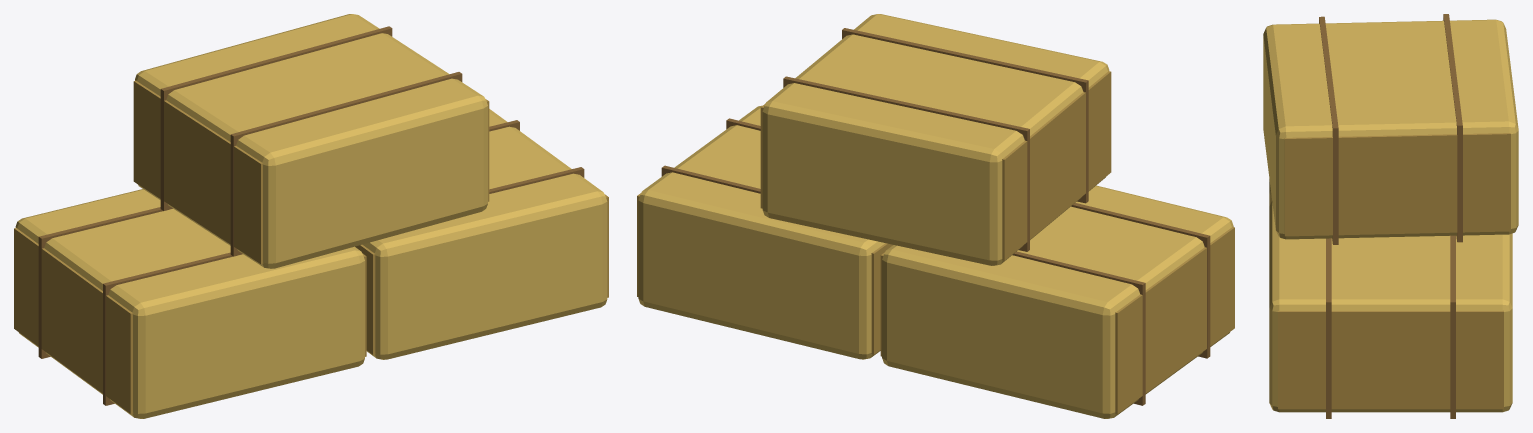
File: hayStack.glb
3 views of the same model, side by side, from view 1: azimuth 30°, elevation 25°; view 2: azimuth 150°, elevation 25°; view 3: azimuth 270°, elevation 25° (orthographic). The views are drawn at different scales.
Parts seen in each view (by area): view 1: hayStack; view 2: hayStack; view 3: hayStack.
Boxes of the visible parts, x1,y1,x2,y2 form: hayStack: [14, 14, 608, 418]; hayStack: [637, 14, 1234, 418]; hayStack: [1263, 14, 1518, 418].
Size of the model in its own units: 1.89 by 0.915 by 0.9033.
